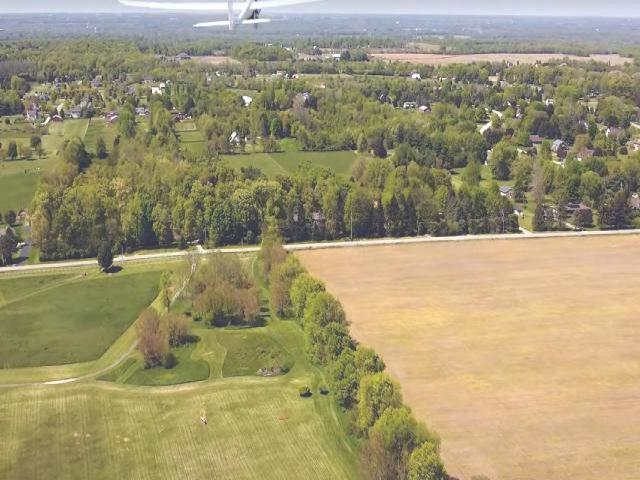iha: (114, 0, 383, 39)
